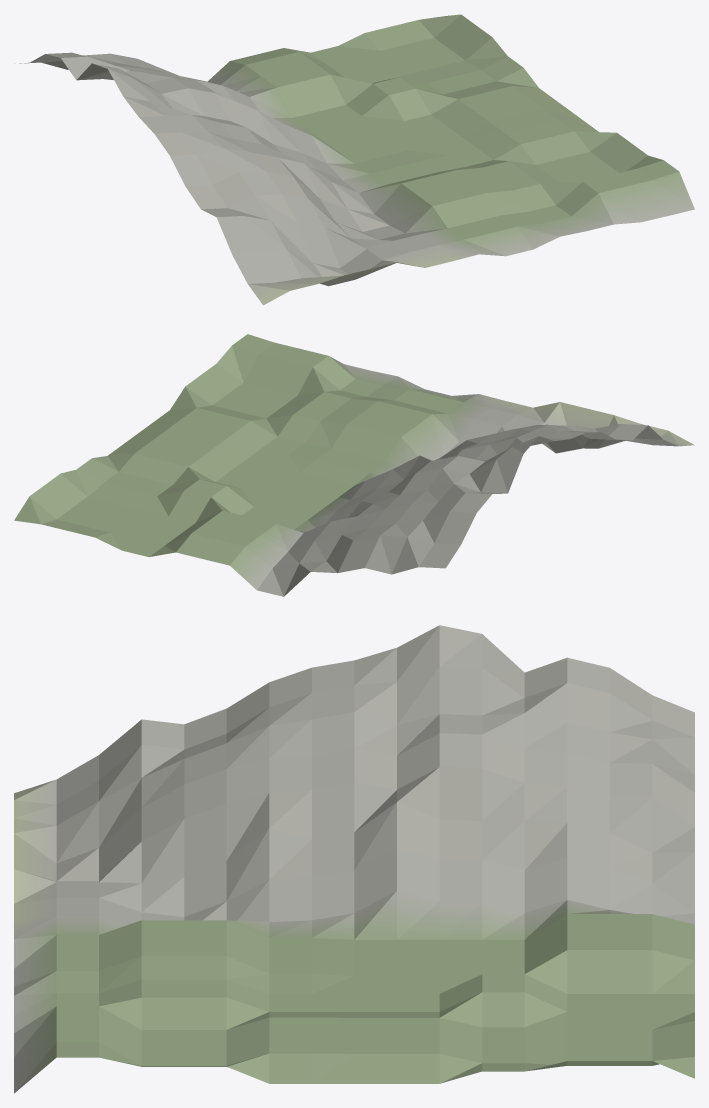
3 views of the same model, one above another, from view 1: azimuth 30°, elevation 25°; view 2: azimuth 150°, elevation 25°; view 3: azimuth 270°, elevation 25° (orthographic). The views are drawn at different scales.
Size of the model in its own units: 32 by 9.56 by 32.
